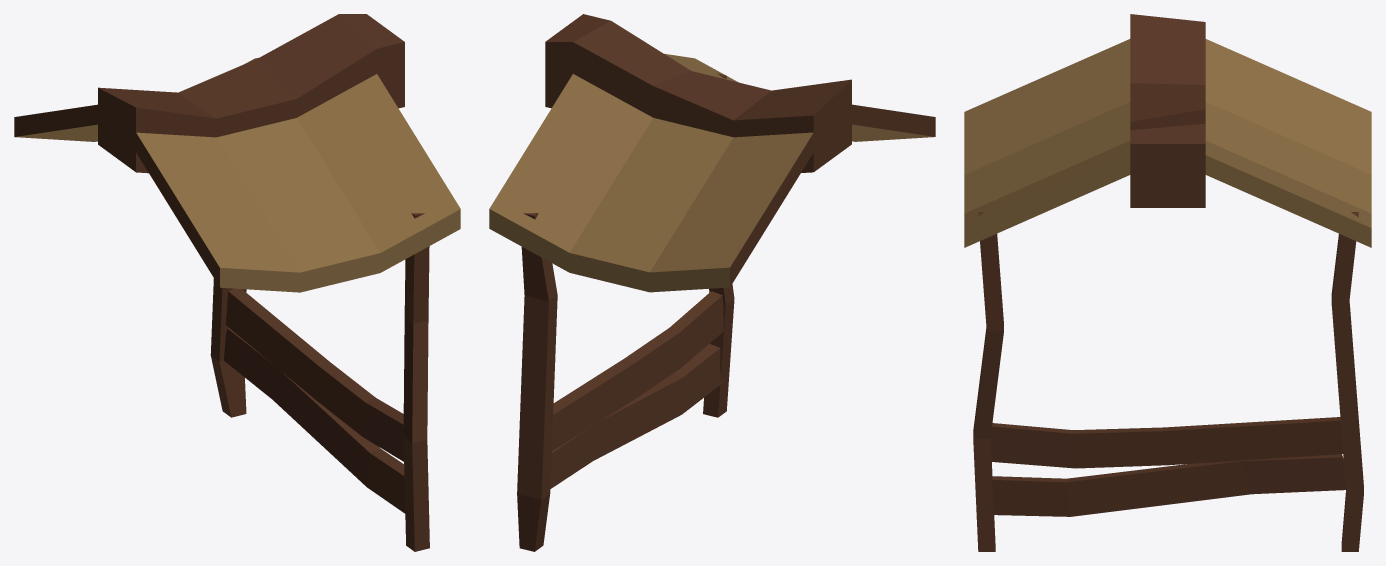
The model's file is StiltOverHang_01.fbx.
3 renders of one model, left to right at view 1: azimuth 30°, elevation 25°; view 2: azimuth 150°, elevation 25°; view 3: azimuth 270°, elevation 25°, orthographic.
Visible parts, largest first — view 1: Shade_1; view 2: Shade_1; view 3: Shade_1.
Part boxes in pixels (bbox=[...]): Shade_1: bbox=[14, 14, 460, 551]; Shade_1: bbox=[489, 14, 935, 551]; Shade_1: bbox=[964, 14, 1371, 551].
Bounding box in the file's own units: 94.81 × 150 × 126.
